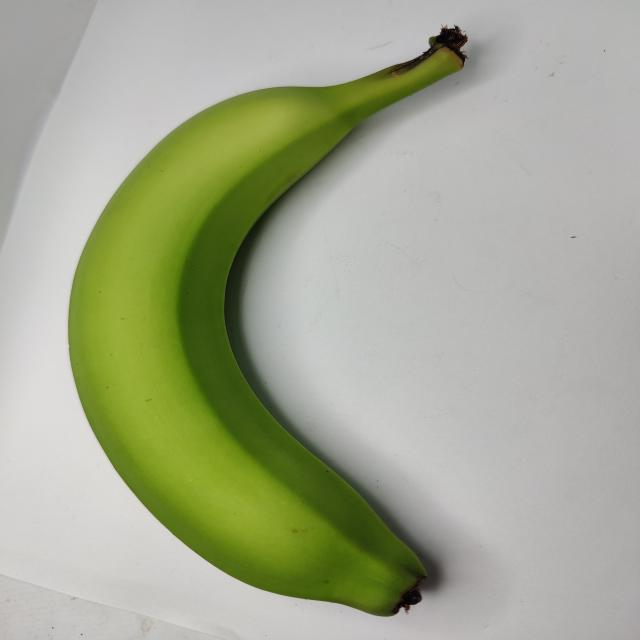raw: (44, 15, 511, 628)
